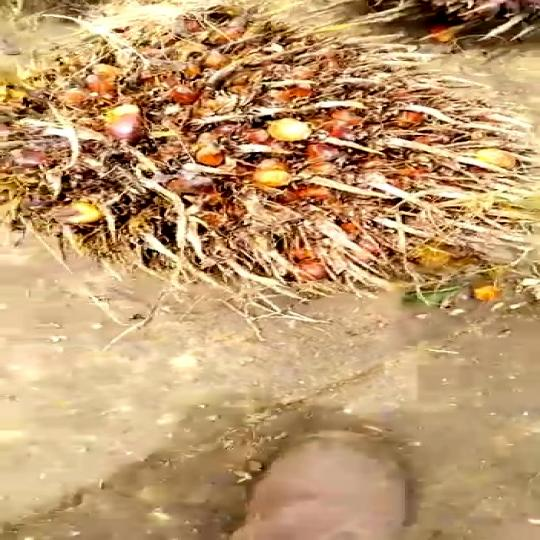terlalu masak: (0, 0, 540, 302)
